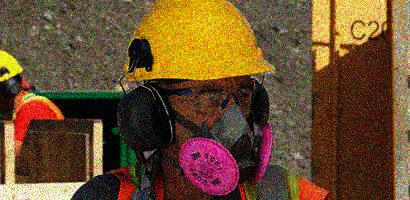helmet: (124, 1, 275, 188), (1, 46, 25, 113)
